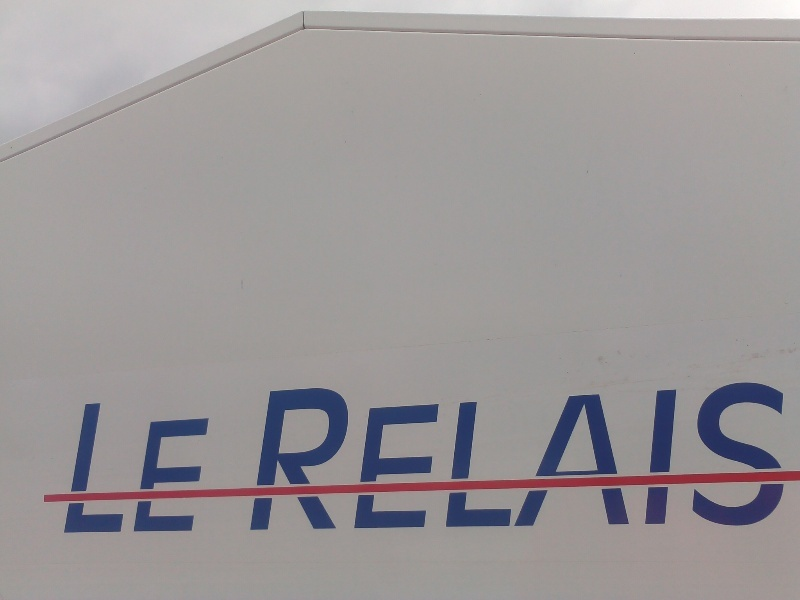text: (769, 378, 785, 531), (273, 378, 288, 531), (289, 378, 304, 531), (305, 378, 320, 531), (321, 378, 336, 531), (337, 378, 352, 531), (353, 378, 368, 531), (369, 378, 384, 531), (385, 378, 400, 531), (401, 378, 416, 531), (417, 378, 432, 531), (433, 378, 448, 531), (449, 378, 464, 531), (465, 378, 480, 531), (481, 378, 496, 531), (497, 378, 512, 531), (513, 378, 528, 531), (529, 378, 544, 531), (545, 378, 560, 531), (561, 378, 576, 531), (577, 378, 592, 531), (593, 378, 608, 531), (609, 378, 624, 531), (625, 378, 640, 531), (641, 378, 656, 531), (657, 378, 672, 531), (673, 378, 688, 531), (689, 378, 704, 531), (705, 378, 720, 531), (721, 378, 736, 531), (737, 378, 752, 531), (753, 378, 768, 531), (97, 400, 112, 534), (113, 400, 128, 534), (129, 400, 144, 534), (145, 400, 160, 534), (161, 400, 176, 534), (177, 400, 192, 534), (193, 400, 208, 534), (85, 400, 96, 534), (270, 378, 272, 531), (209, 400, 210, 534)
